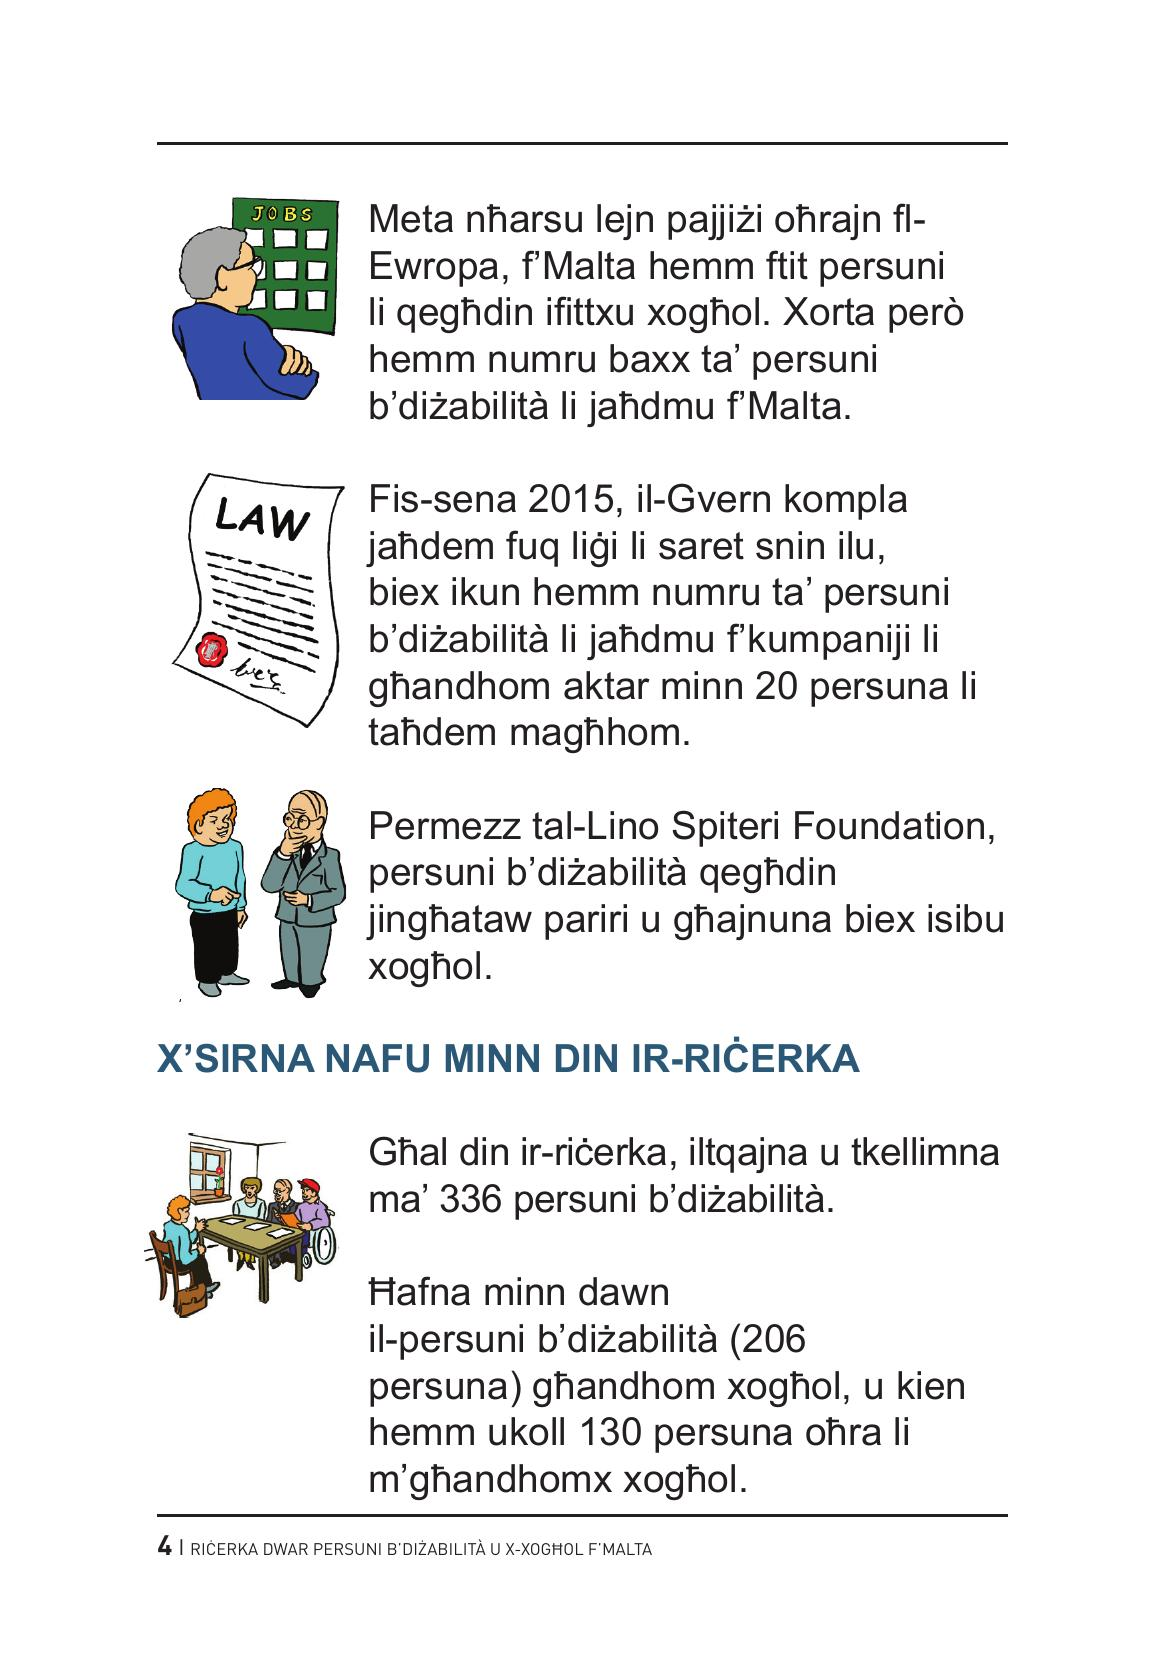text: (358, 178, 1052, 1012), (346, 1114, 1066, 1510), (143, 1019, 874, 1091)
